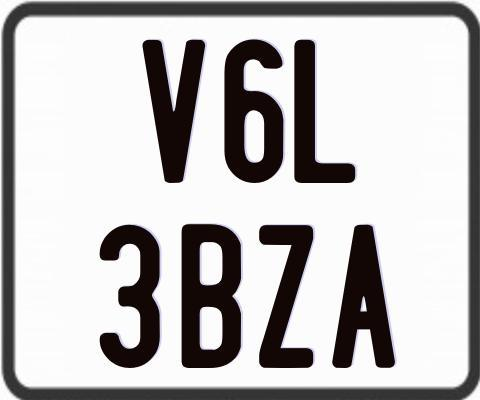3: (97, 224, 158, 373)
6: (222, 38, 283, 188)
A: (332, 225, 399, 370)
B: (179, 221, 240, 368)
L: (293, 37, 360, 184)
V: (143, 38, 207, 181)
Z: (259, 225, 315, 372)
